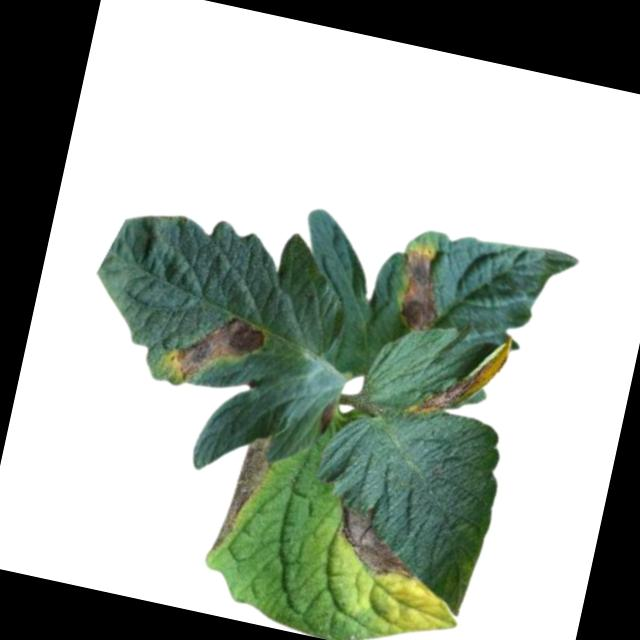Early_blight: (405, 318, 514, 433), (210, 424, 278, 558), (167, 303, 268, 392), (329, 496, 427, 582), (390, 242, 449, 337), (315, 398, 336, 435)
